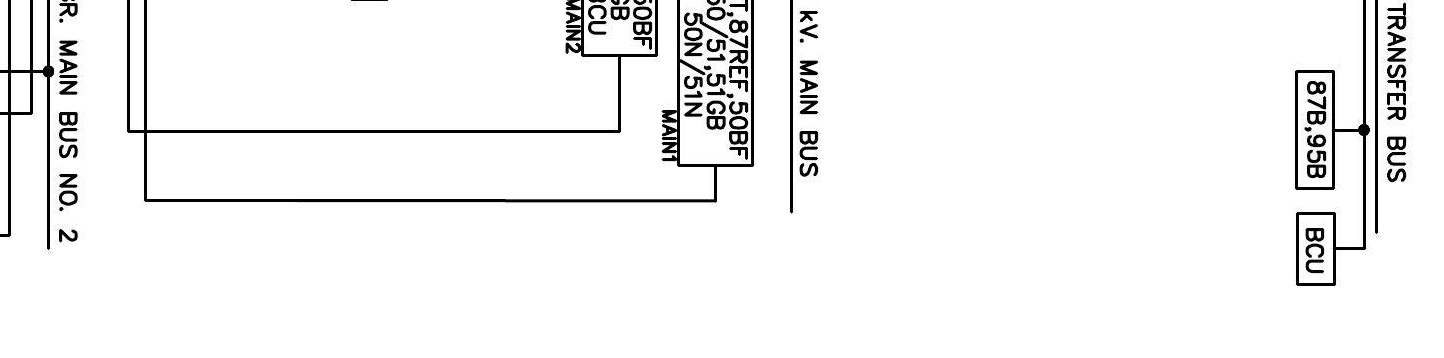BCU: (1295, 211, 1337, 287)
